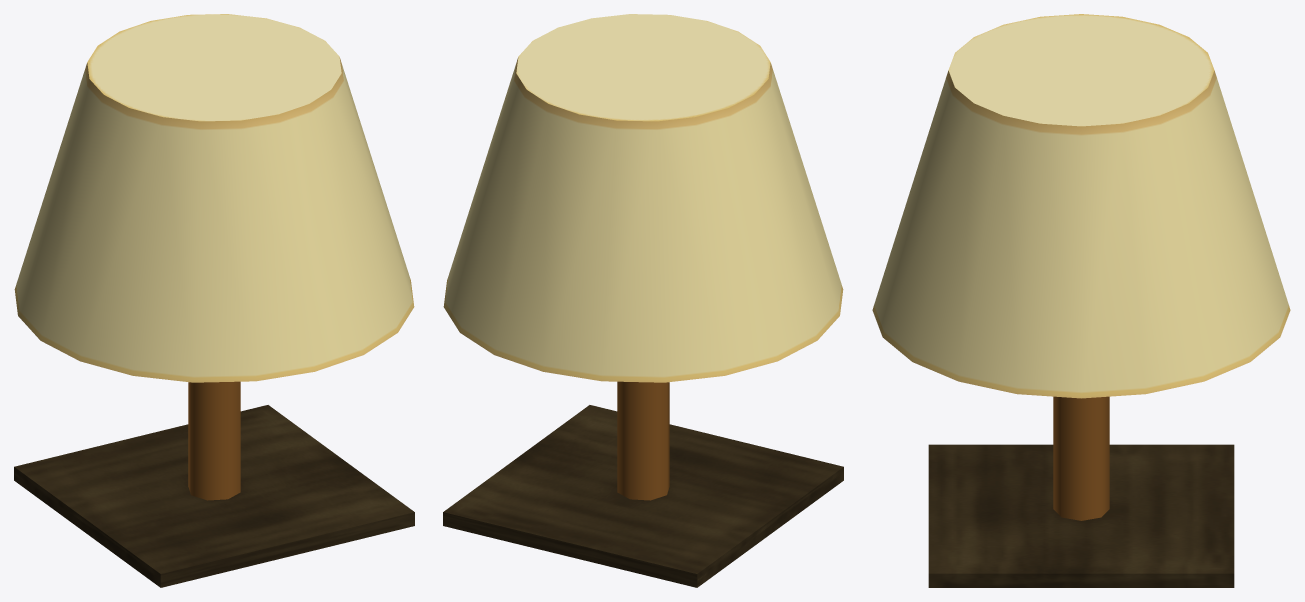
File: ChicLamp_HD.fbx
3 views of the same model, side by side, from view 1: azimuth 30°, elevation 25°; view 2: azimuth 150°, elevation 25°; view 3: azimuth 270°, elevation 25° (orthographic). The views are drawn at different scales.
Visible parts, largest first — view 1: ChicLamp; view 2: ChicLamp; view 3: ChicLamp.
Boxes of the visible parts, box(x1,y1,x2,y2) form: ChicLamp: box(14, 14, 414, 587); ChicLamp: box(443, 14, 843, 587); ChicLamp: box(872, 14, 1290, 587).
Bounding box in the file's own units: 0.5943 × 0.7109 × 0.5943.
